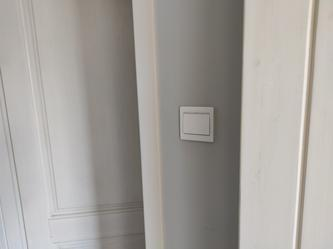switch: (180, 108, 216, 140)
